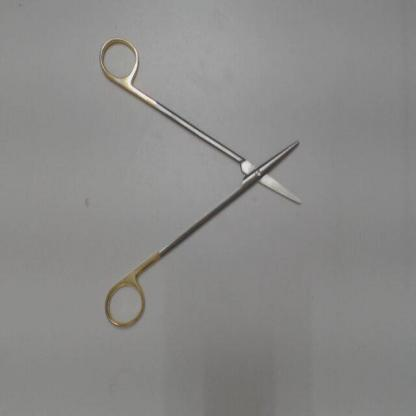7 Metzenbaum Scissors: (95, 32, 308, 338)
